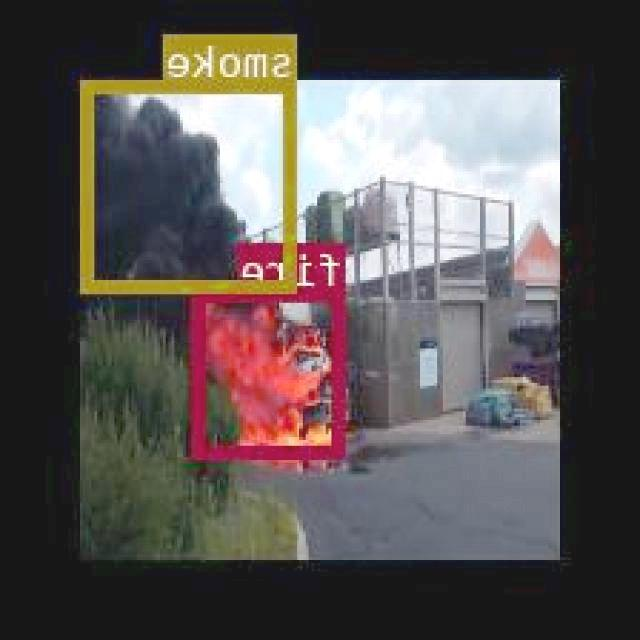fire: (195, 288, 347, 454)
smoke: (84, 79, 297, 289)
